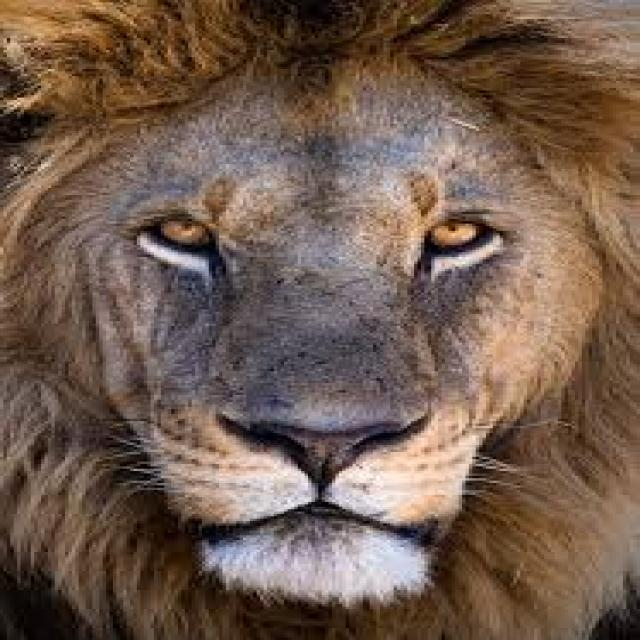Lion: (71, 71, 593, 613)
